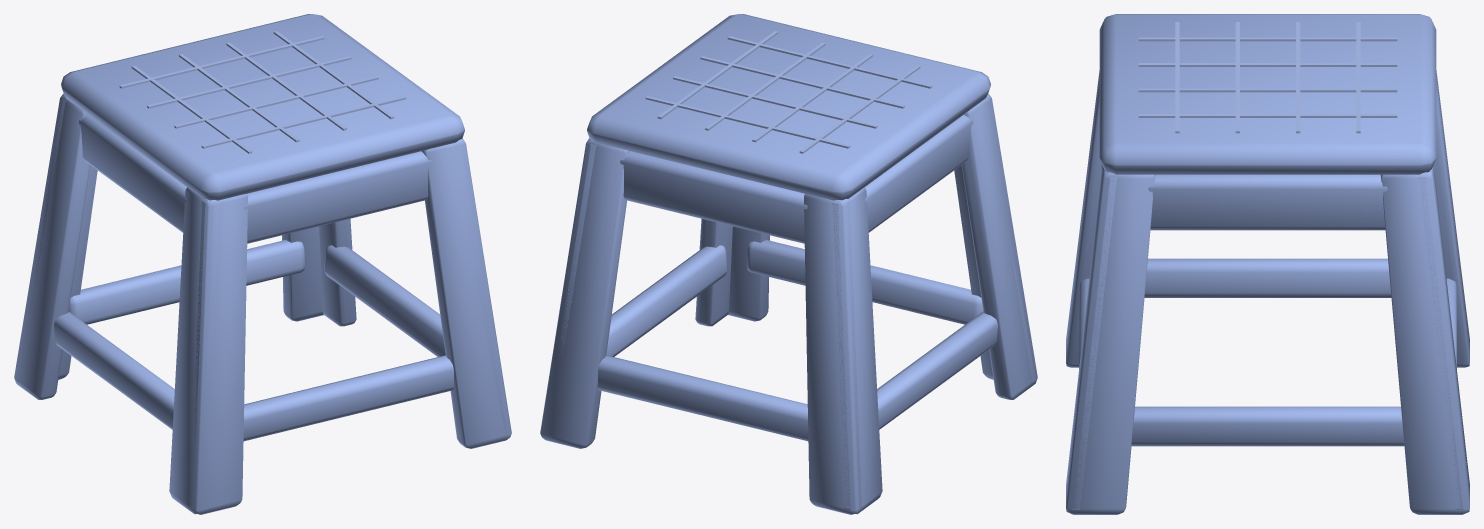
Rendered from stool_plastic.glb.
3 renders of one model, left to right at view 1: azimuth 30°, elevation 25°; view 2: azimuth 150°, elevation 25°; view 3: azimuth 270°, elevation 25°, orthographic. The views are drawn at different scales.
Visible parts, largest first — view 1: stool_plastic__StoolBlue, stool_plastic__StoolBlueGrid; view 2: stool_plastic__StoolBlue, stool_plastic__StoolBlueGrid; view 3: stool_plastic__StoolBlue, stool_plastic__StoolBlueGrid.
Boxes of the visible parts, x1=… form: stool_plastic__StoolBlue: x1=14, y1=14, x2=511, y2=514; stool_plastic__StoolBlueGrid: x1=119, y1=31, x2=406, y2=153; stool_plastic__StoolBlue: x1=540, y1=14, x2=1037, y2=514; stool_plastic__StoolBlueGrid: x1=645, y1=31, x2=932, y2=153; stool_plastic__StoolBlue: x1=1066, y1=14, x2=1469, y2=514; stool_plastic__StoolBlueGrid: x1=1138, y1=22, x2=1397, y2=133.
Bounding box in the file's own units: 0.4683 × 0.4525 × 0.4683.
